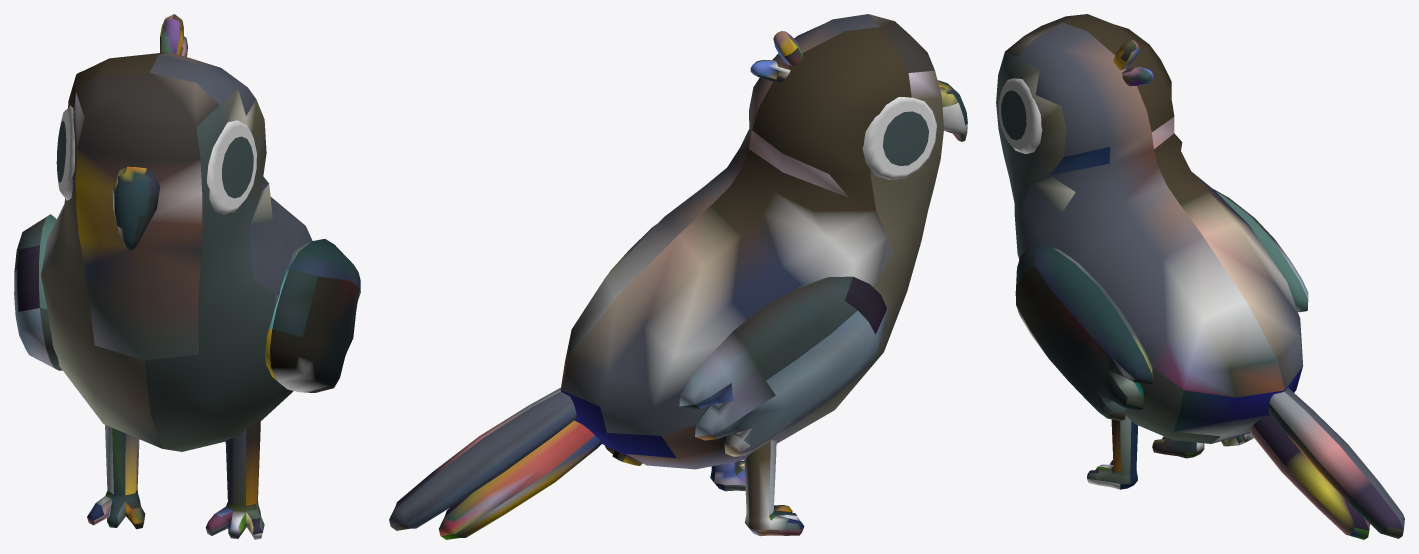
File: Macaw.glb
3 views of the same model, side by side, from view 1: azimuth 30°, elevation 25°; view 2: azimuth 150°, elevation 25°; view 3: azimuth 270°, elevation 25° (orthographic). The views are drawn at different scales.
Visible parts, largest first — view 1: 96; view 2: 96; view 3: 96.
Boxes of the visible parts, x1=… form: 96: x1=14, y1=14, x2=360, y2=539; 96: x1=389, y1=14, x2=967, y2=539; 96: x1=996, y1=14, x2=1404, y2=539.
Size of the model in its own units: 0.5948 by 0.7294 by 0.645.
